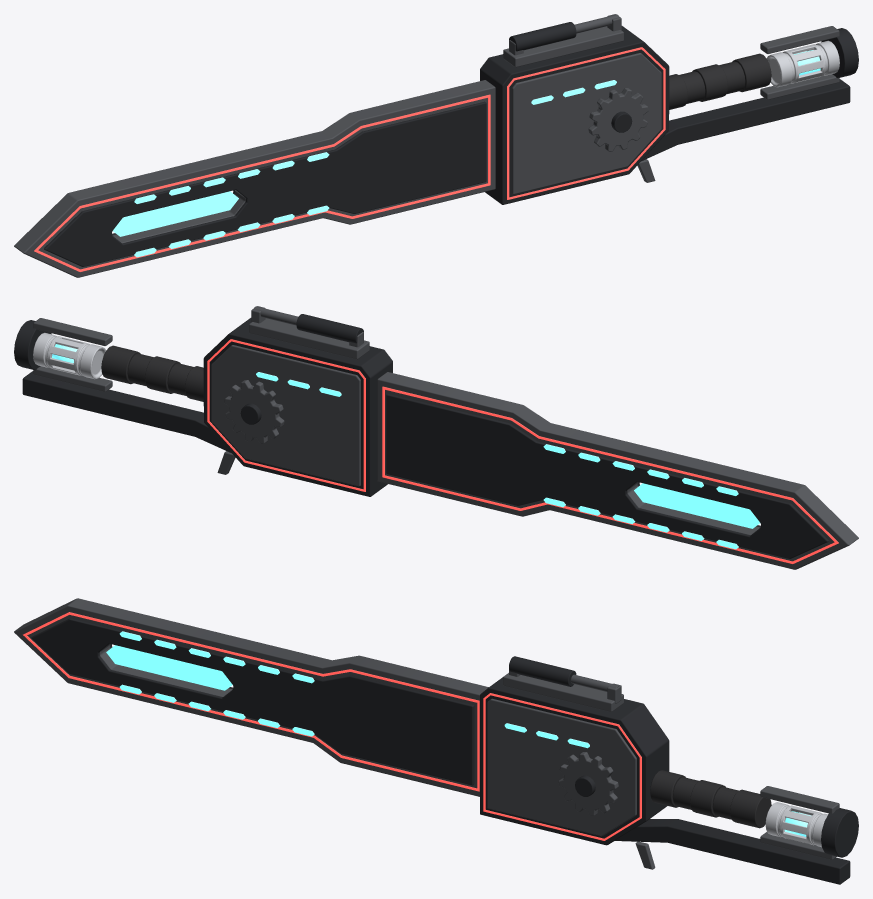
The model's file is arma_04.glb.
3 renders of one model, top to bottom at view 1: azimuth 30°, elevation 25°; view 2: azimuth 150°, elevation 25°; view 3: azimuth 330°, elevation 25°, orthographic.
Visible parts, largest first — view 1: Placa_hoja_glb, Hoja_glb, Placa_cuerpo_glb, Cuerpo_glb, Bastidor_glb, Linea_roja_glb, Engranaje_glb, Luz_ventana_glb, Celda_06_glb, Riel_glb, Linea_roja_cuerpo_glb, Piston_camisa_glb (+10 smaller); view 2: Placa_hoja_glb, Hoja_glb, Placa_cuerpo_glb, Cuerpo_glb, Bastidor_glb, Linea_roja_glb, Engranaje_glb, Luz_ventana_glb, Celda_06_glb, Riel_glb, Linea_roja_cuerpo_glb, Piston_camisa_glb (+10 smaller); view 3: Placa_hoja_glb, Hoja_glb, Placa_cuerpo_glb, Cuerpo_glb, Bastidor_glb, Linea_roja_glb, Luz_ventana_glb, Engranaje_glb, Riel_glb, Celda_06_glb, Tapa_glb, Linea_roja_cuerpo_glb (+10 smaller).
Boxes of the visible parts, box(x1,y1,x2,y2) form: Placa_hoja_glb: box(44, 101, 486, 266); Hoja_glb: box(14, 80, 495, 277); Placa_cuerpo_glb: box(512, 53, 661, 194); Cuerpo_glb: box(480, 26, 669, 204); Bastidor_glb: box(642, 79, 850, 160); Linea_roja_glb: box(34, 94, 490, 271); Engranaje_glb: box(588, 88, 648, 151); Luz_ventana_glb: box(113, 191, 238, 236); Celda_06_glb: box(766, 40, 839, 87); Riel_glb: box(503, 26, 623, 67); Linea_roja_cuerpo_glb: box(507, 47, 665, 199); Piston_camisa_glb: box(509, 22, 576, 51); Placa_hoja_glb: box(386, 393, 828, 558); Hoja_glb: box(377, 372, 858, 569); Placa_cuerpo_glb: box(211, 345, 360, 486); Cuerpo_glb: box(203, 318, 392, 496); Bastidor_glb: box(22, 371, 230, 452); Linea_roja_glb: box(382, 386, 838, 563); Engranaje_glb: box(224, 380, 284, 443); Luz_ventana_glb: box(634, 483, 759, 528); Celda_06_glb: box(33, 332, 106, 379); Riel_glb: box(249, 318, 369, 359); Linea_roja_cuerpo_glb: box(207, 339, 365, 491); Piston_camisa_glb: box(296, 314, 363, 343); Placa_hoja_glb: box(31, 618, 474, 785); Hoja_glb: box(14, 598, 488, 796); Placa_cuerpo_glb: box(487, 698, 636, 836); Cuerpo_glb: box(480, 677, 669, 845); Bastidor_glb: box(615, 819, 850, 884); Linea_roja_glb: box(23, 612, 479, 791); Luz_ventana_glb: box(106, 645, 232, 690); Engranaje_glb: box(558, 752, 618, 815); Riel_glb: box(503, 673, 623, 711); Celda_06_glb: box(765, 802, 827, 847); Tapa_glb: box(821, 808, 858, 857); Linea_roja_cuerpo_glb: box(483, 693, 641, 840).
Size of the model in its own units: 4.56 by 0.935 by 0.38.
